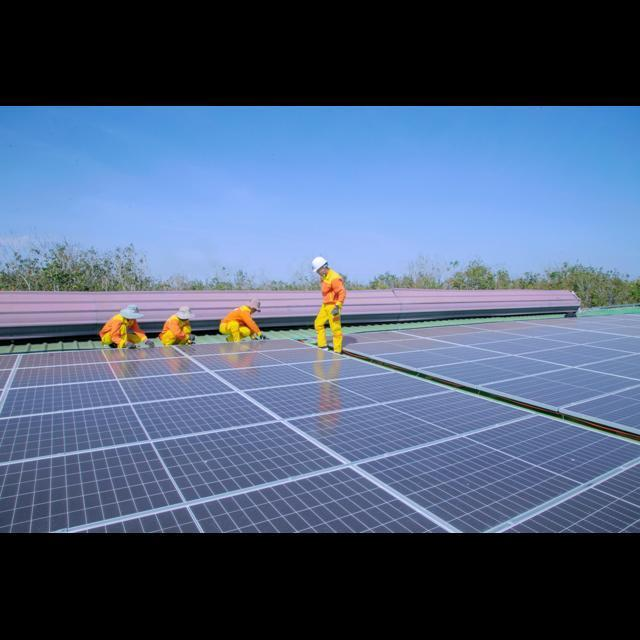Capacete: (312, 256, 327, 272)
Pessoa: (312, 256, 345, 352), (99, 304, 153, 347), (219, 299, 265, 341), (158, 306, 194, 345)
